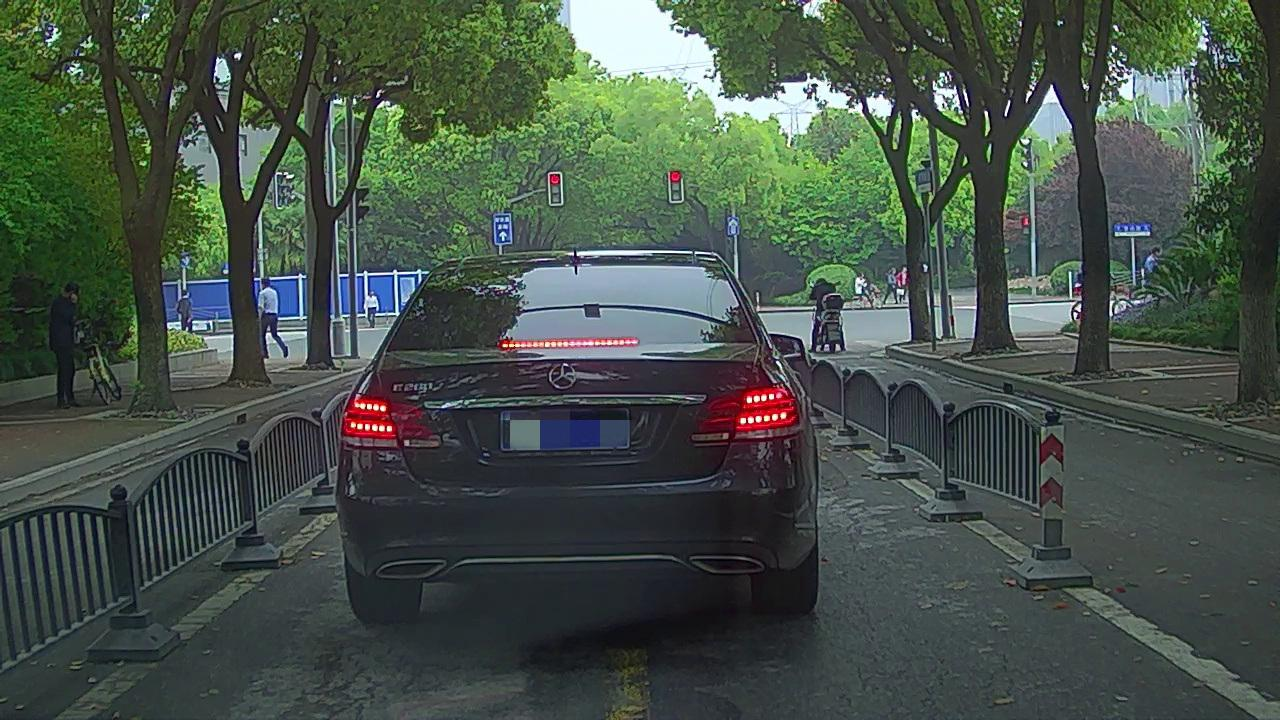traffic_light: (669, 170, 681, 201), (551, 174, 562, 203)
